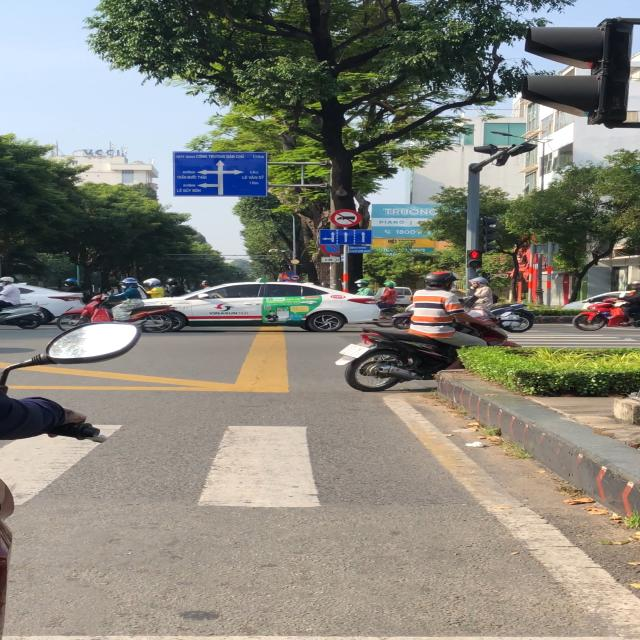Bien bao cam xe so-mi ro-mooc: (331, 207, 366, 228)
